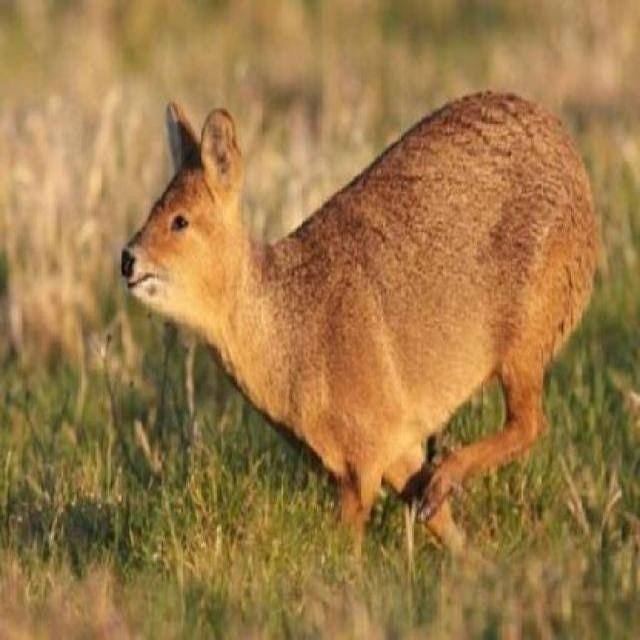deer: (118, 78, 610, 578)
